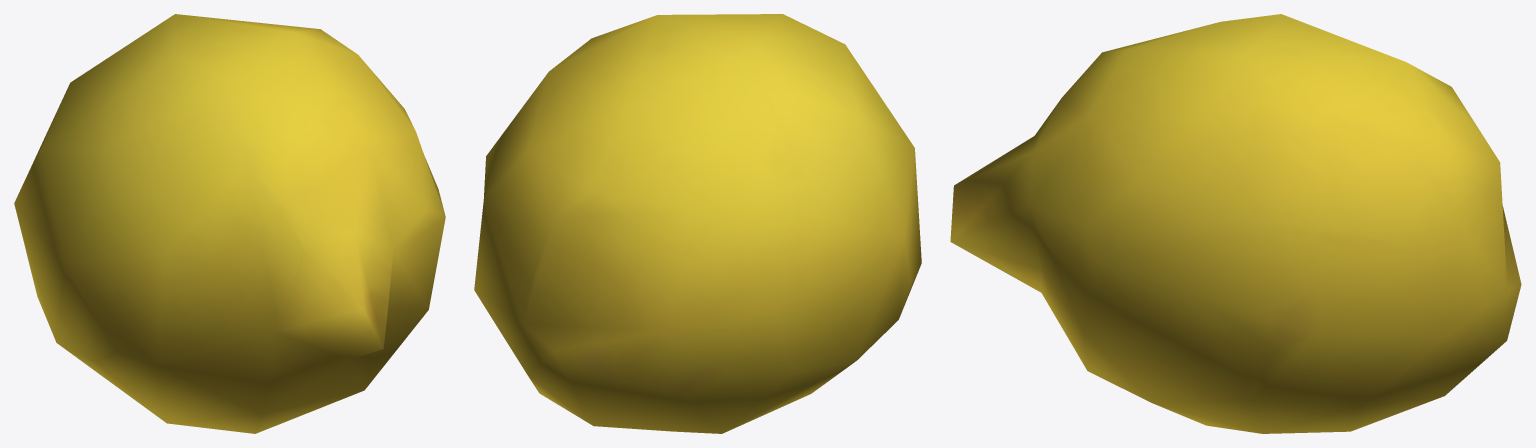
The model's file is SM_Food_SM_Lemon.fbx.
3 views of the same model, side by side, from view 1: azimuth 30°, elevation 25°; view 2: azimuth 150°, elevation 25°; view 3: azimuth 270°, elevation 25° (orthographic). The views are drawn at different scales.
Parts seen in each view (by area): view 1: SM_Food_SM_Lemon_LOD0; view 2: SM_Food_SM_Lemon_LOD0; view 3: SM_Food_SM_Lemon_LOD0.
Part boxes in pixels (box(x1,y1,x2,y2)): SM_Food_SM_Lemon_LOD0: box(14, 14, 445, 433); SM_Food_SM_Lemon_LOD0: box(474, 14, 921, 433); SM_Food_SM_Lemon_LOD0: box(950, 14, 1521, 433).
Bounding box in the file's own units: 6.28 × 8.01 × 5.93.
Materials: 1 (1 with a texture image).
